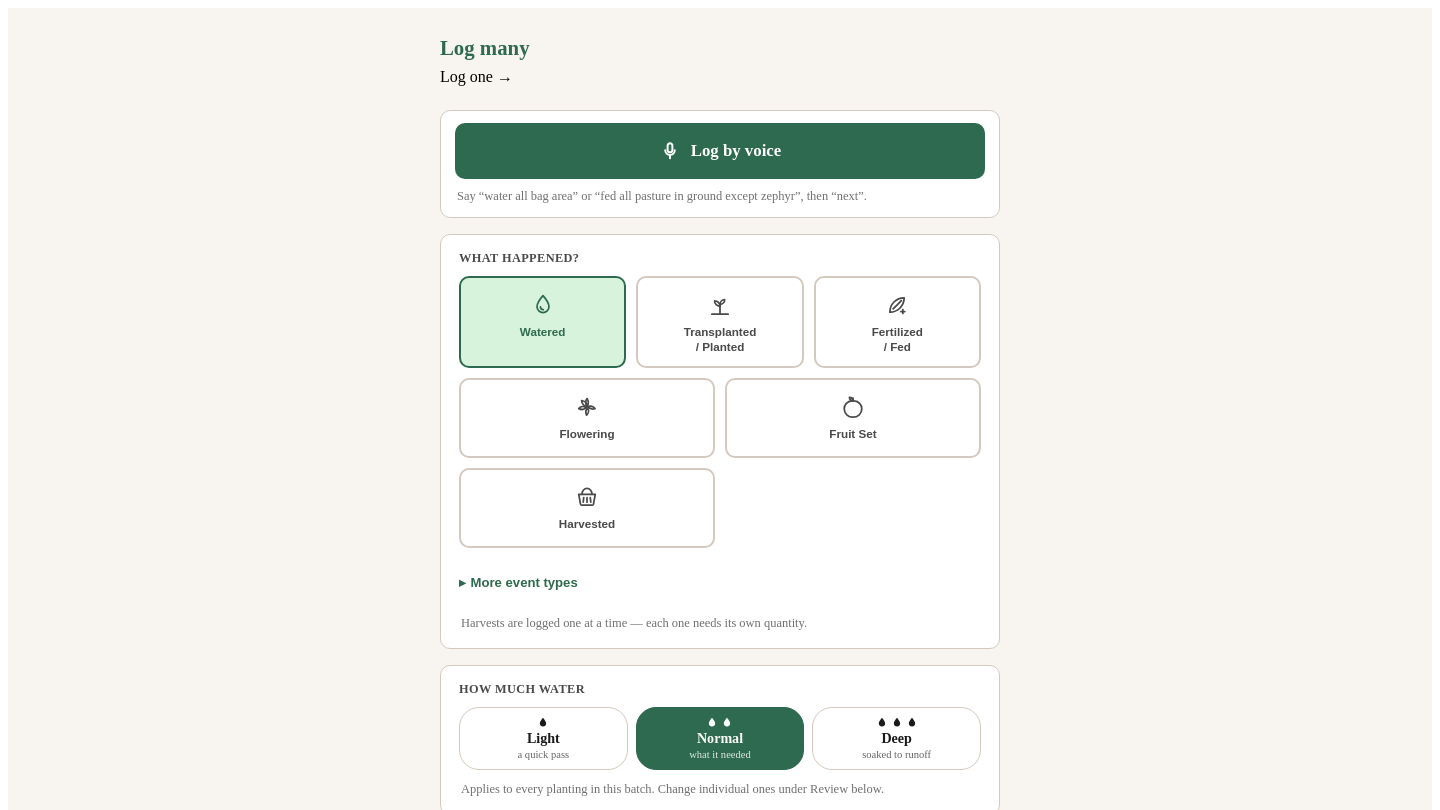
Test case: LogMany — the result screen names the recorded class › states the class beside the durable undo
Click the button with test id "water-depth-deep" at (897, 739), box [812, 707, 981, 770]
(page scrolled)
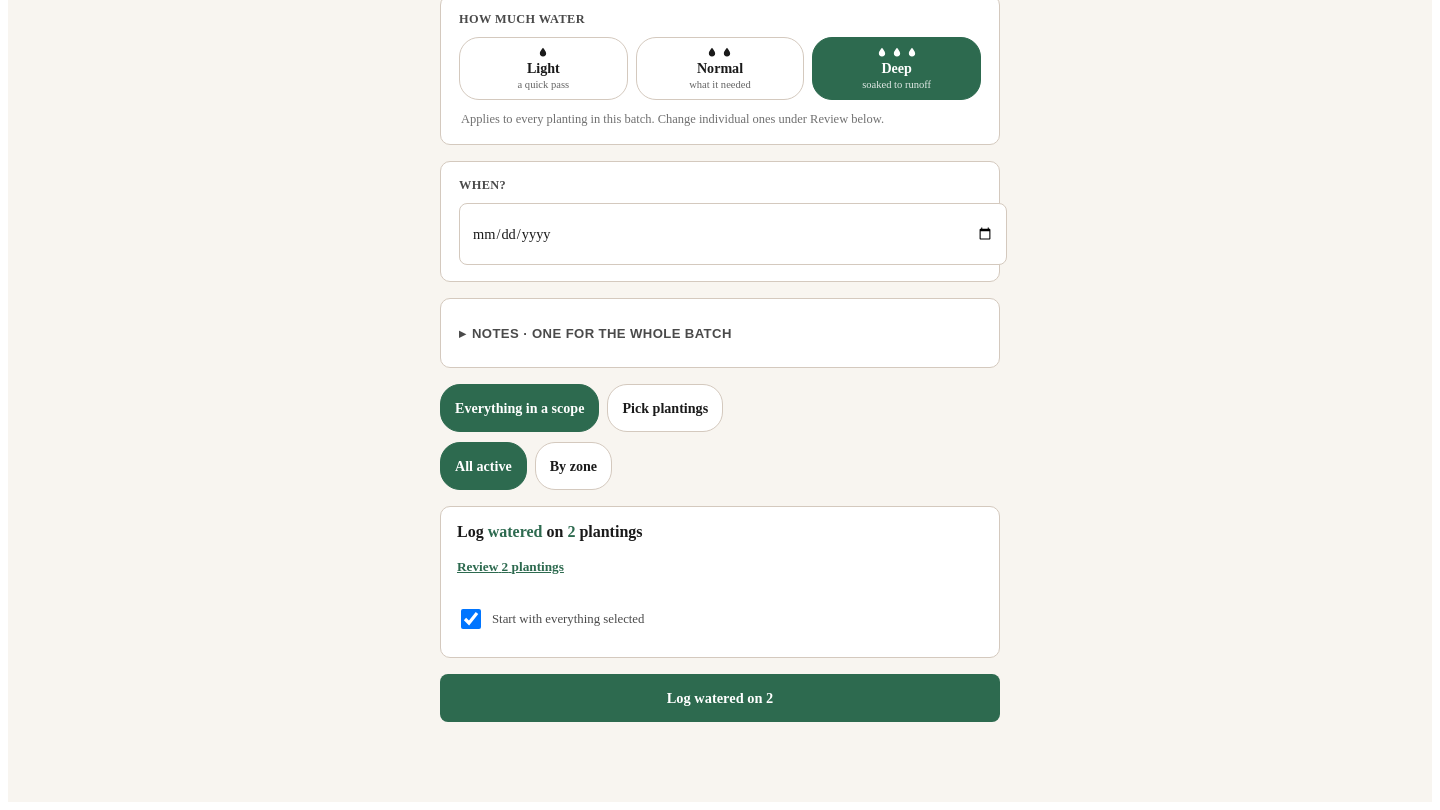
Click the button "Log watered on 2" at (720, 698), box [440, 674, 1000, 722]
(page scrolled)
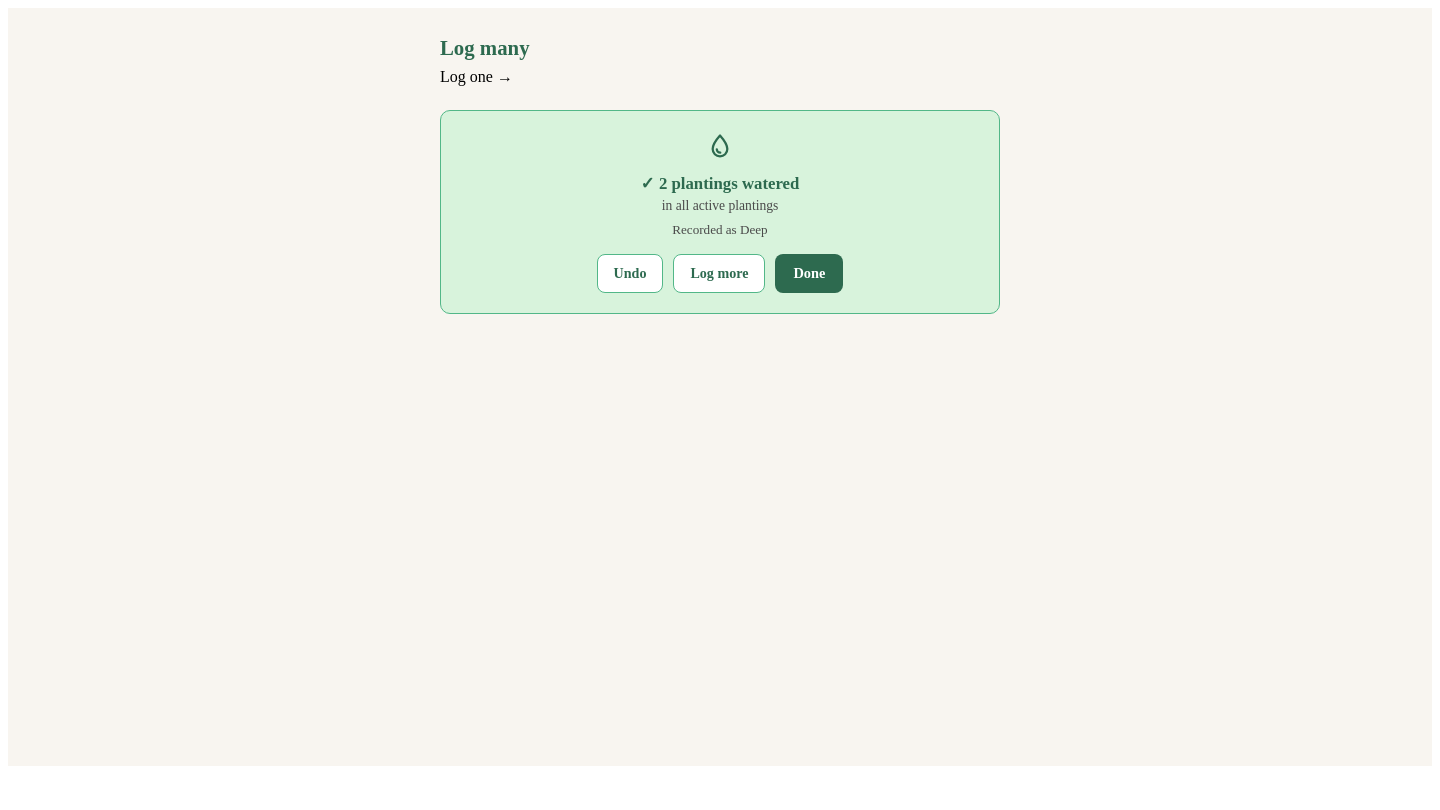
Expected: the text with test id "logmany-depth-recorded" shows "Deep", [740, 222, 768, 237]
Expected: the button "Undo" is shown, [597, 254, 664, 293]
